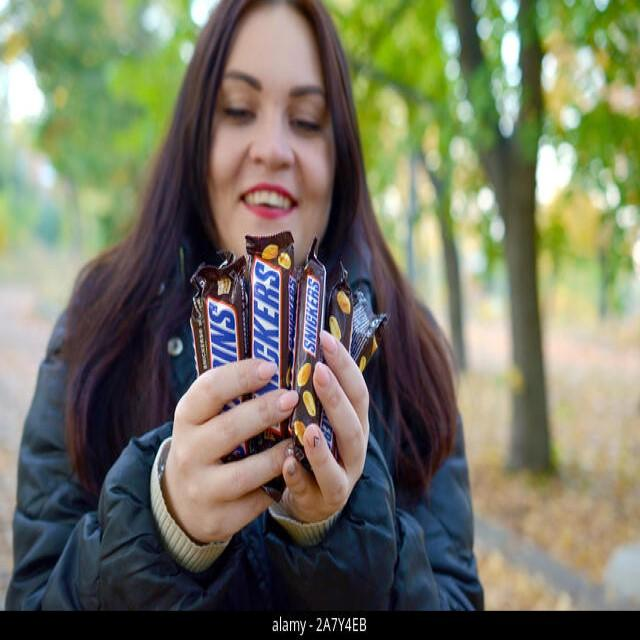snickers_chocolate: (187, 263, 235, 377), (252, 238, 286, 380), (305, 242, 335, 386)
